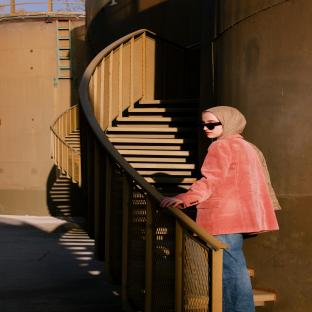Human: (160, 106, 280, 312)
